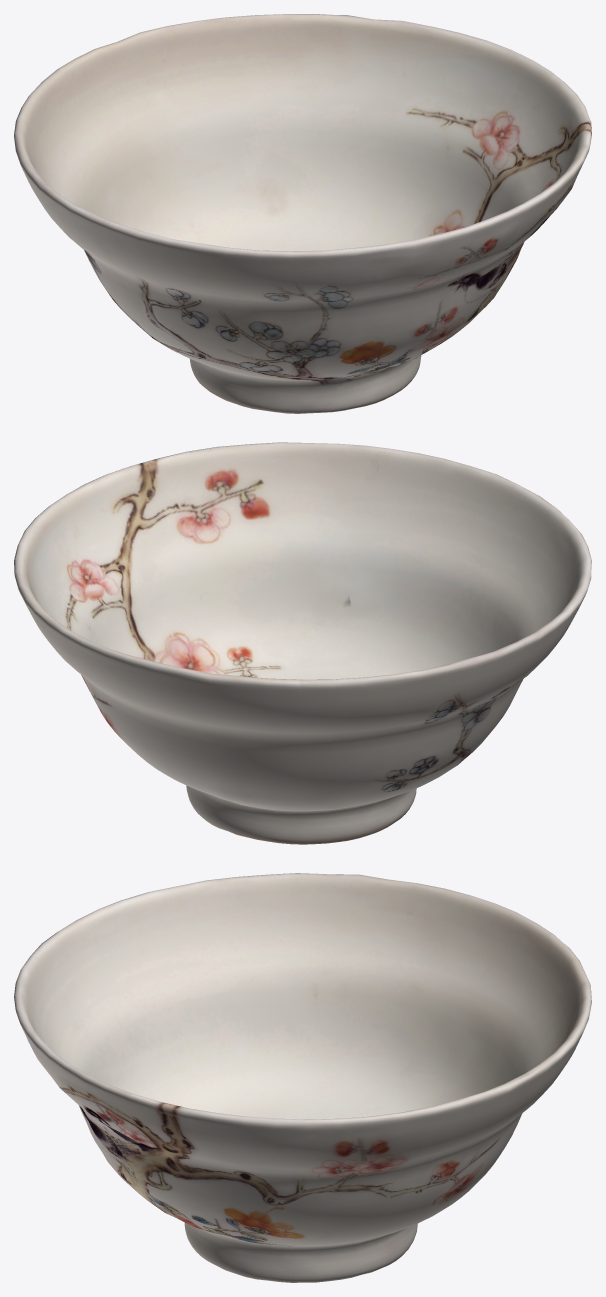
3 renders of one model, top to bottom at view 1: azimuth 30°, elevation 25°; view 2: azimuth 150°, elevation 25°; view 3: azimuth 270°, elevation 25°, orthographic.
Parts seen in each view (by area): view 1: objSZB_ZB_134; view 2: objSZB_ZB_134; view 3: objSZB_ZB_134.
Part boxes in pixels (bbox=[...]): objSZB_ZB_134: bbox=[14, 14, 591, 413]; objSZB_ZB_134: bbox=[14, 442, 591, 844]; objSZB_ZB_134: bbox=[14, 873, 591, 1282].
Size of the model in its own units: 107 by 49 by 105.
